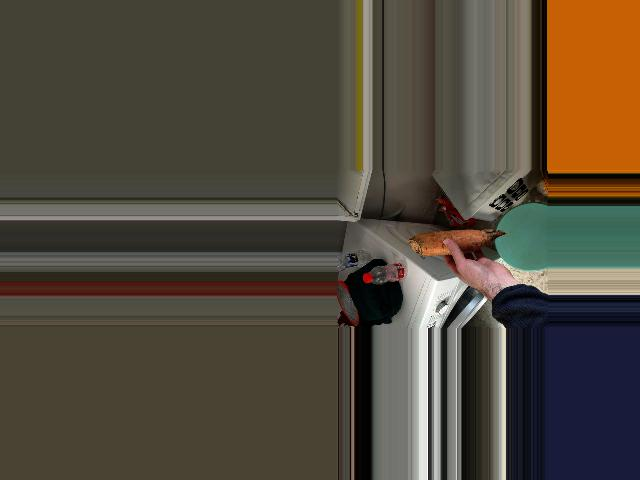sweet_potato: (407, 228, 503, 259)
